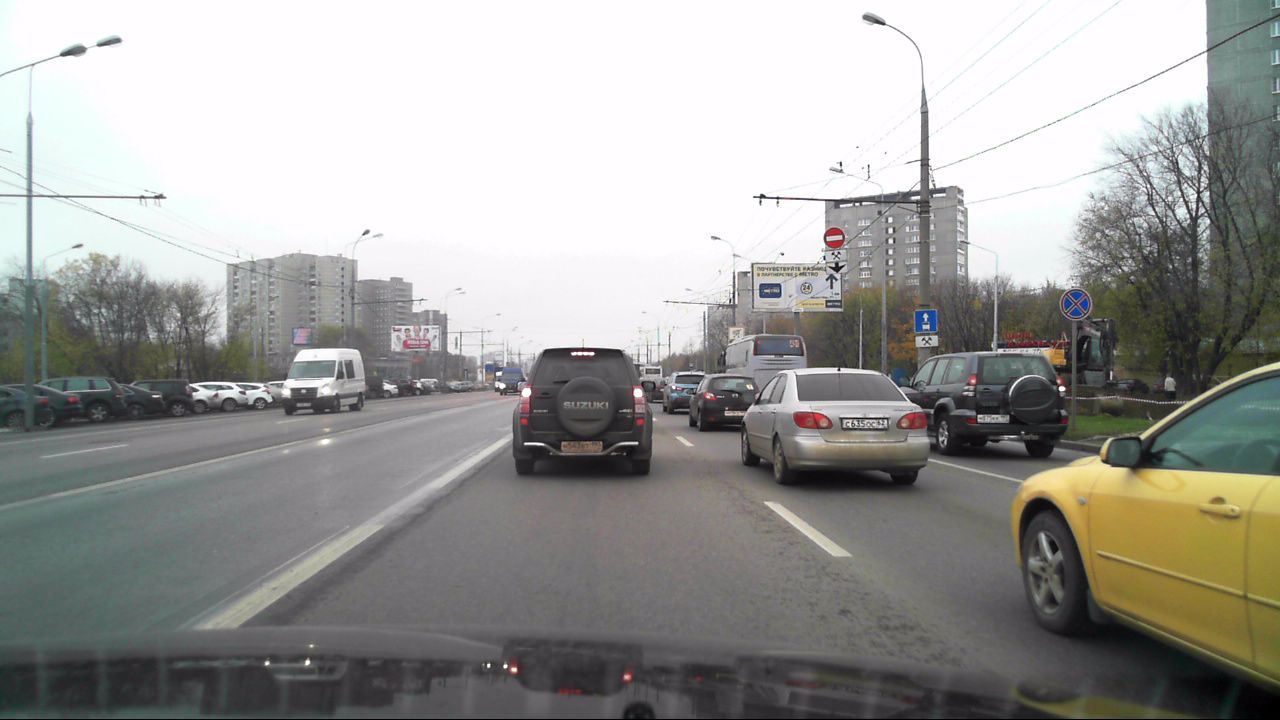No Parking: (1057, 287, 1094, 320)
